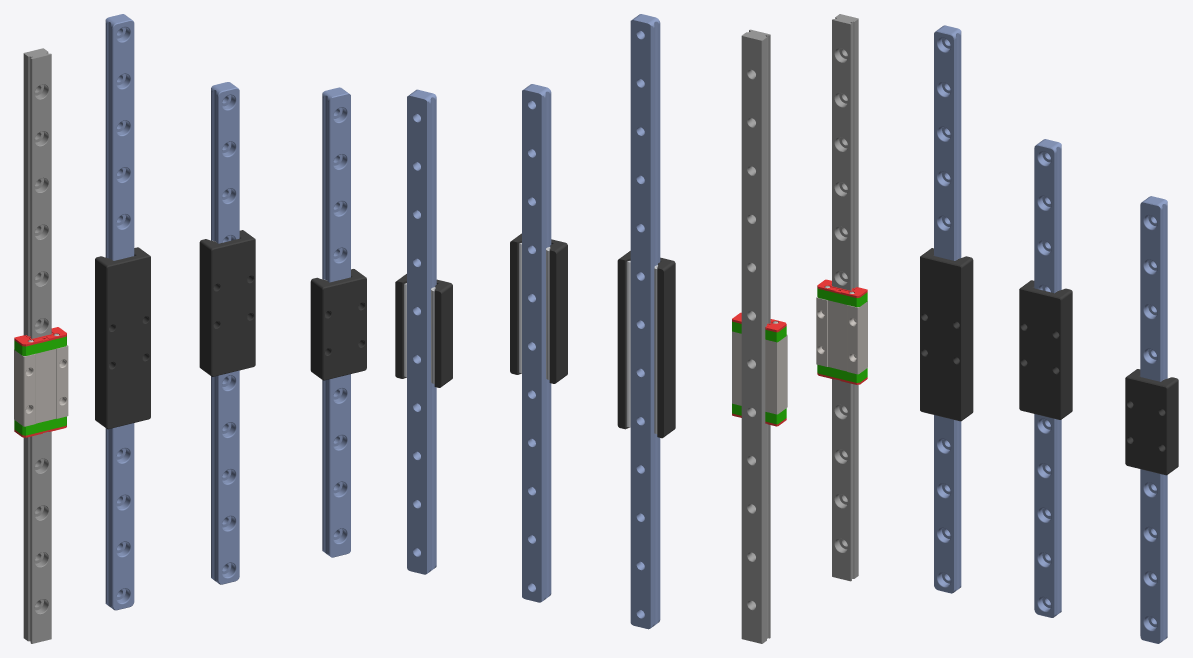
File: mgn9-petg-petg-linear-rails-mgn9-v3.glb
3 renders of one model, left to right at view 1: azimuth 30°, elevation 25°; view 2: azimuth 150°, elevation 25°; view 3: azimuth 330°, elevation 25°, orthographic. The views are drawn at different scales.
Parts seen in each view (by area): view 1: Steel_rail, SOLID, MGNR9_rail_Y, MGNR9_rail_Z, MGN9_long_asimetric_9.9_X, MGN9_long_asimetric_9.9_Z, MGN9_short_simetric_9.9_Y, Component13, Component16, Component21; view 2: SOLID, Steel_rail, MGNR9_rail_Z, MGNR9_rail_Y, MGN9_long_asimetric_9.9_X, MGN9_long_asimetric_9.9_Z, MGN9_short_simetric_9.9_Y, Component13, node_6, node_7; view 3: Steel_rail, SOLID, MGNR9_rail_Y, MGNR9_rail_Z, MGN9_long_asimetric_9.9_X, MGN9_long_asimetric_9.9_Z, MGN9_short_simetric_9.9_Y, Component13.
Boxes of the visible parts, left/top/right/bottom form: Steel_rail: left=23, top=48, right=51, bottom=643; SOLID: left=105, top=14, right=134, bottom=610; MGNR9_rail_Y: left=322, top=87, right=350, bottom=557; MGNR9_rail_Z: left=211, top=82, right=239, bottom=584; MGN9_long_asimetric_9.9_X: left=95, top=247, right=150, bottom=429; MGN9_long_asimetric_9.9_Z: left=199, top=230, right=255, bottom=376; MGN9_short_simetric_9.9_Y: left=310, top=269, right=366, bottom=380; Component13: left=14, top=345, right=68, bottom=426; Component16: left=14, top=336, right=66, bottom=355; Component21: left=14, top=416, right=66, bottom=435; SOLID: left=630, top=14, right=660, bottom=629; Steel_rail: left=741, top=29, right=770, bottom=643; MGNR9_rail_Z: left=522, top=84, right=551, bottom=602; MGNR9_rail_Y: left=407, top=89, right=436, bottom=574; MGN9_long_asimetric_9.9_X: left=617, top=251, right=675, bottom=438; MGN9_long_asimetric_9.9_Z: left=510, top=233, right=567, bottom=383; MGN9_short_simetric_9.9_Y: left=395, top=274, right=452, bottom=387; Component13: left=732, top=331, right=787, bottom=414; node_6: left=626, top=260, right=630, bottom=427; node_7: left=654, top=265, right=657, bottom=433; Steel_rail: left=832, top=14, right=858, bottom=581; SOLID: left=934, top=25, right=961, bottom=593; MGNR9_rail_Y: left=1140, top=196, right=1167, bottom=643; MGNR9_rail_Z: left=1034, top=139, right=1061, bottom=617; MGN9_long_asimetric_9.9_X: left=920, top=248, right=973, bottom=421; MGN9_long_asimetric_9.9_Z: left=1019, top=280, right=1072, bottom=419; MGN9_short_simetric_9.9_Y: left=1125, top=369, right=1178, bottom=475; Component13: left=816, top=296, right=867, bottom=374.
Bounding box in the file's own units: 159 × 251 × 20.03.
